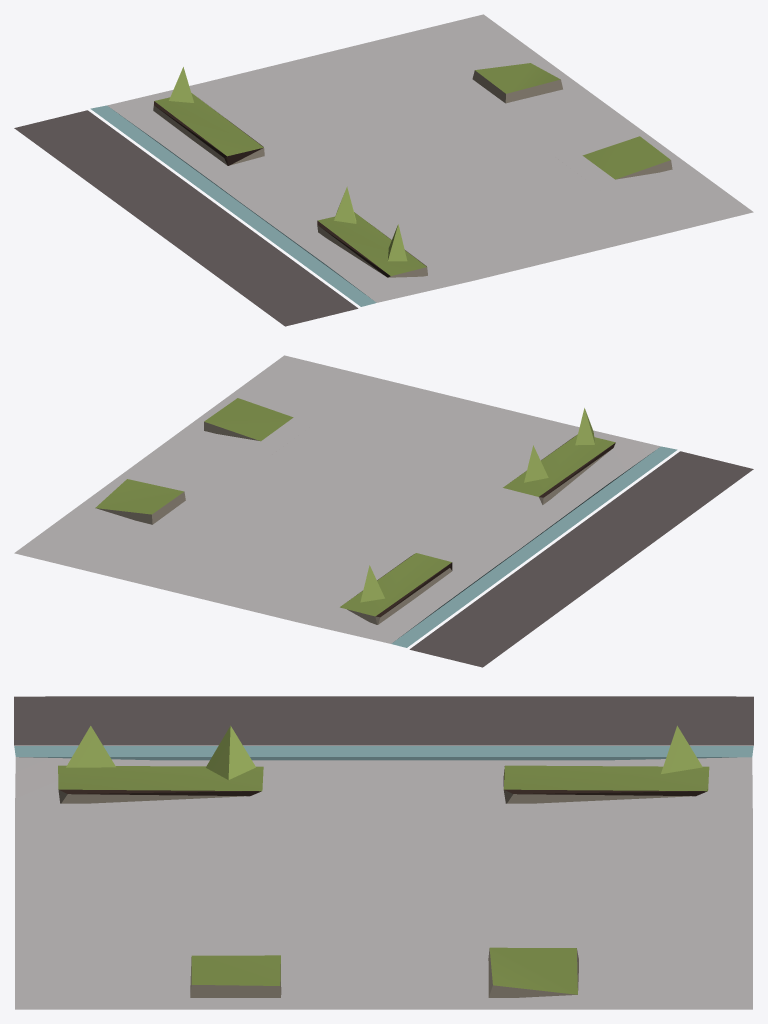
The model's file is QmQ98TMJyS6BrEZRDn77795mHLtCKAeCpViGzZh9i9P8Wf_lod2.fbx.
The picture shows the model from 3 angles, top to bottom: view 1: azimuth 30°, elevation 25°; view 2: azimuth 150°, elevation 25°; view 3: azimuth 270°, elevation 25°; orthographic projection. The views are drawn at different scales.
Parts seen in each view (by area): view 1: Entity_512; view 2: Entity_512; view 3: Entity_512.
Boxes of the visible parts, x1=… form: Entity_512: x1=14, y1=14, x2=753, y2=326; Entity_512: x1=14, y1=355, x2=753, y2=667; Entity_512: x1=14, y1=696, x2=753, y2=1009.
Bounding box in the file's own units: 15907 × 1591 × 15921.
1 material, 1 textured.
